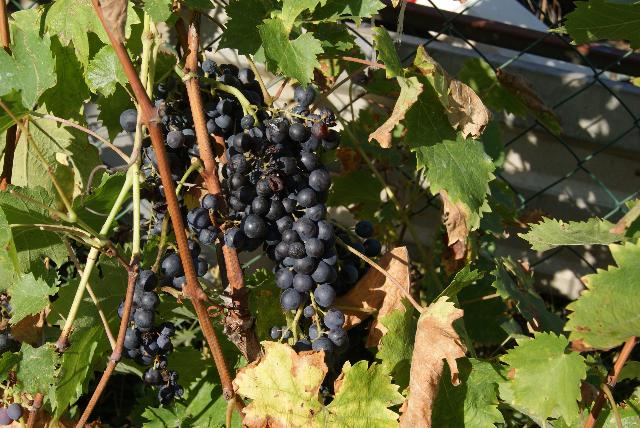grapes: (222, 109, 366, 358), (122, 251, 186, 405), (186, 195, 219, 278)
